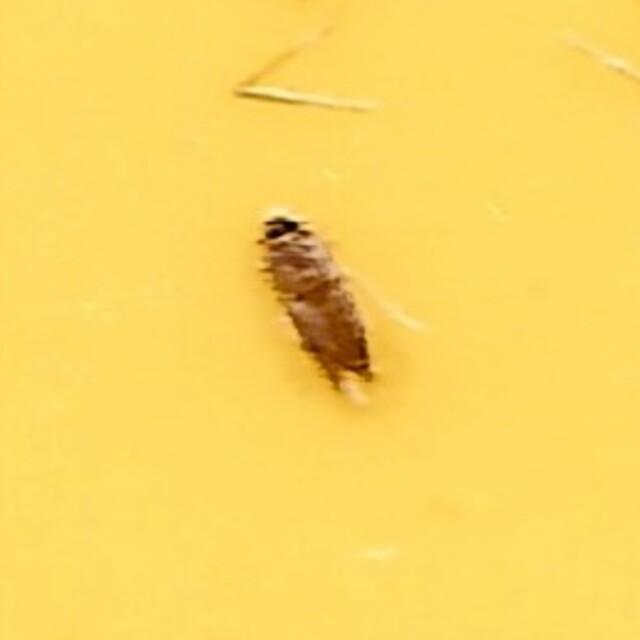Trichoptera: (248, 213, 392, 427)
